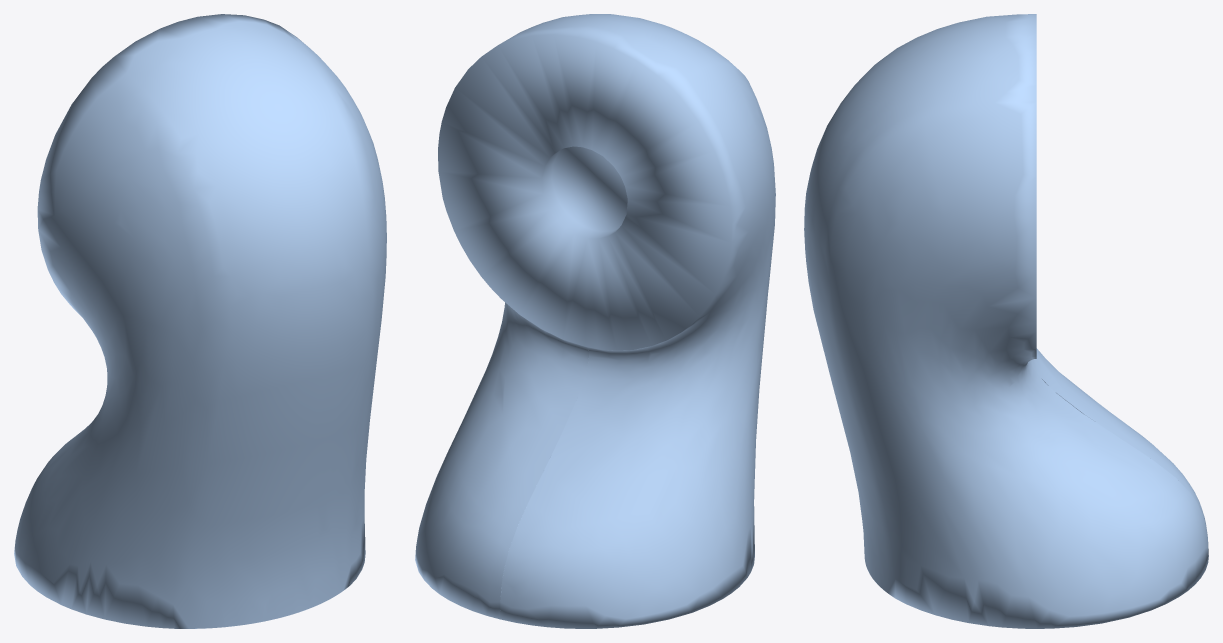
The picture shows the model from 3 angles, left to right: view 1: azimuth 30°, elevation 25°; view 2: azimuth 150°, elevation 25°; view 3: azimuth 270°, elevation 25°; orthographic projection. The views are drawn at different scales.
Visible parts, largest first — view 1: Link_1; view 2: Link_1; view 3: Link_1.
Boxes of the visible parts, bbox=[...] form: Link_1: bbox=[14, 14, 386, 628]; Link_1: bbox=[415, 14, 775, 628]; Link_1: bbox=[804, 14, 1208, 628].
Bounding box in the file's own units: 0.1711 × 0.2011 × 0.2979.
